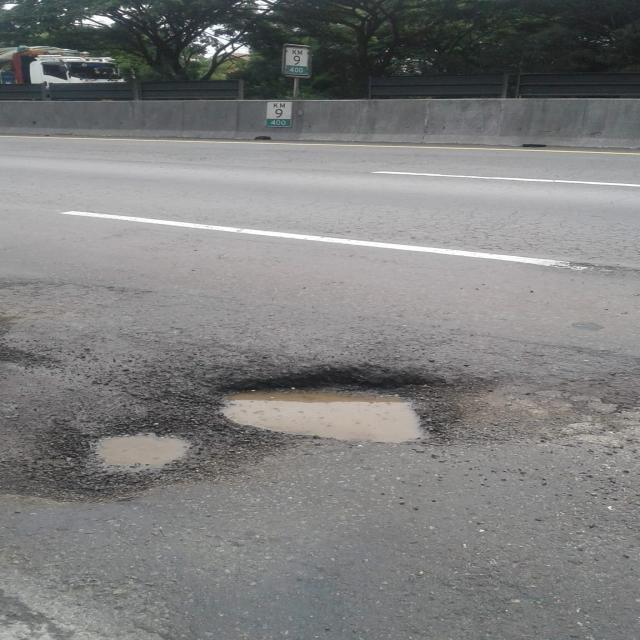Buraco: (202, 360, 454, 449), (76, 426, 200, 476)
